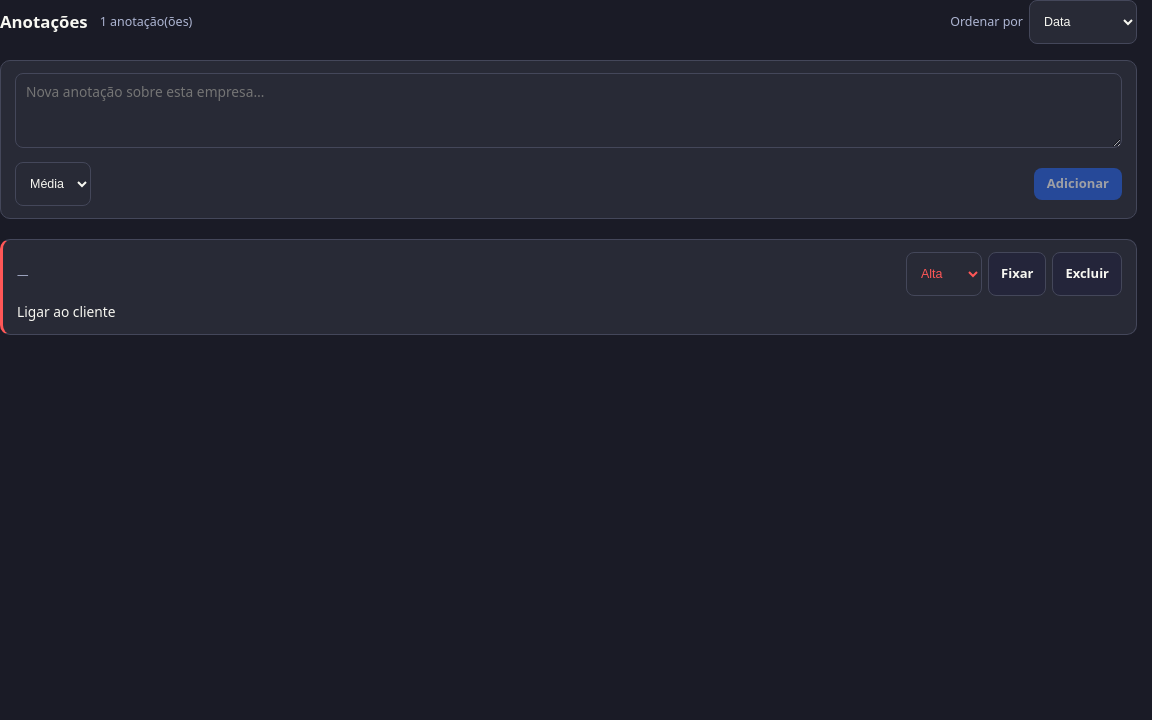
exclusão recusada conserva confirmação e conteúdo da nota
Click the button "Excluir" at (1087, 274), box [1052,252,1122,296]
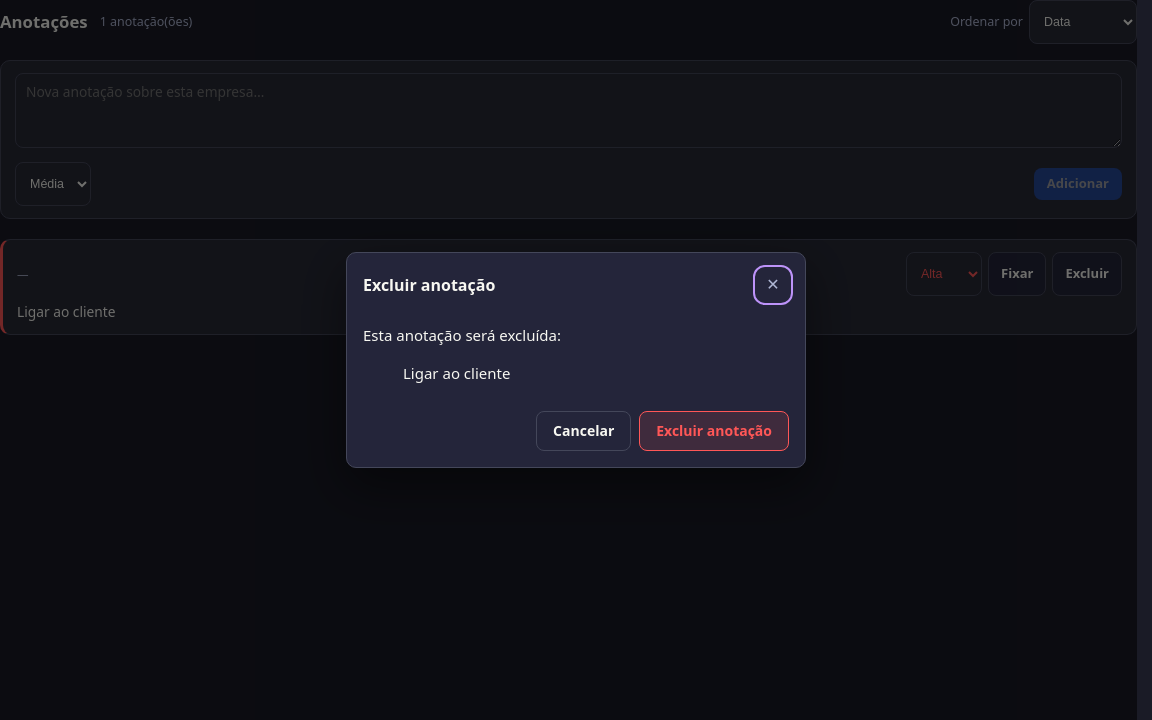
Click the button "Excluir anotação" at (714, 431), box [639,411,789,451]
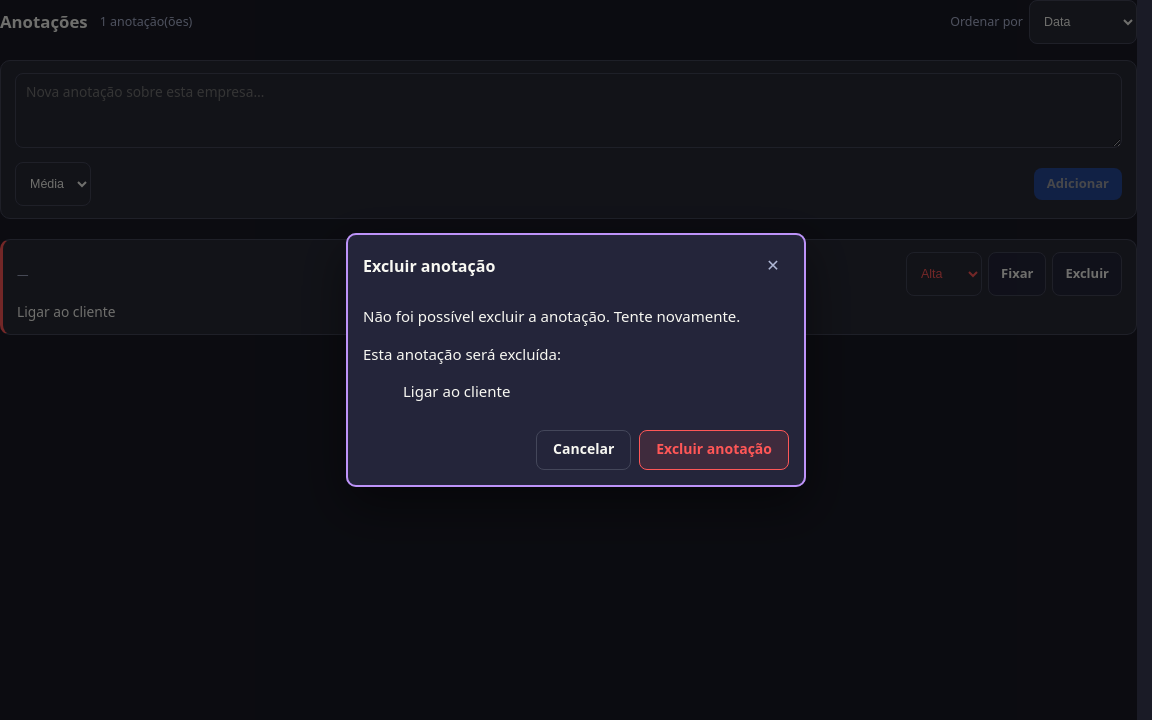
Now the dialog shows "Ligar ao cliente", box [403,381,510,401]
Now the message shows "Não foi possível excluir", box [363,306,740,326]
Click the button "Excluir anotação" at (714, 450), box [639,430,789,470]
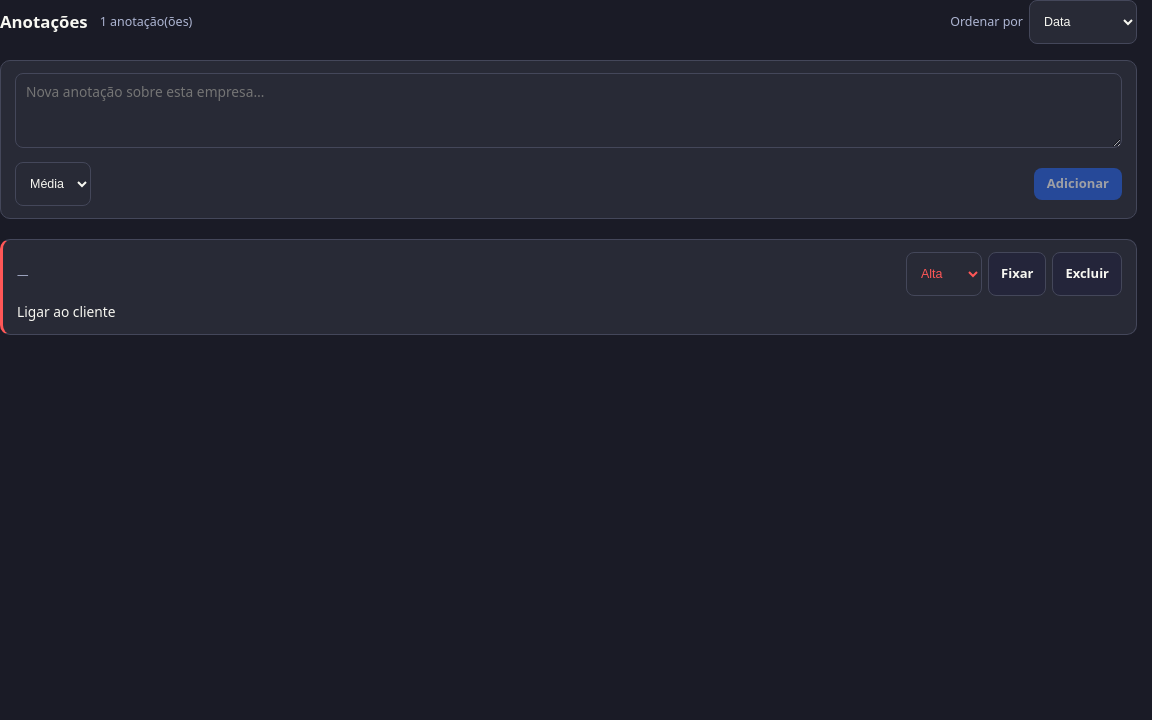
Now the dialog is gone
